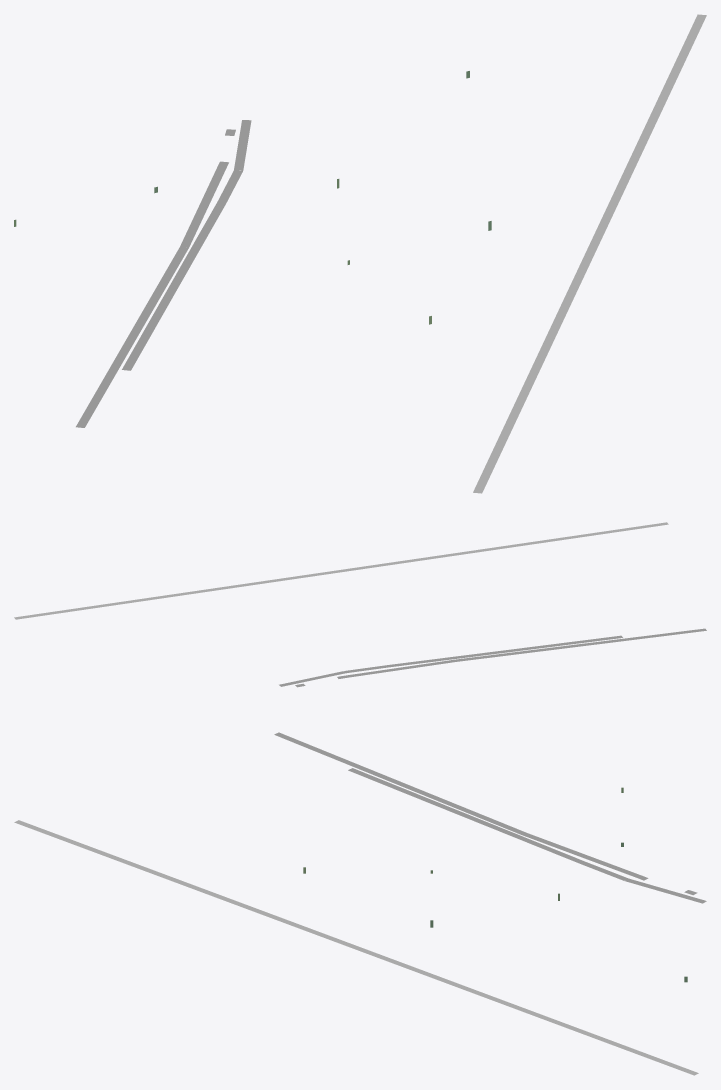
3 views of the same model, one above another, from view 1: azimuth 30°, elevation 25°; view 2: azimuth 150°, elevation 25°; view 3: azimuth 270°, elevation 25° (orthographic). The views are drawn at different scales.
Bounding box in the file's own units: 764 × 9.05 × 654.
